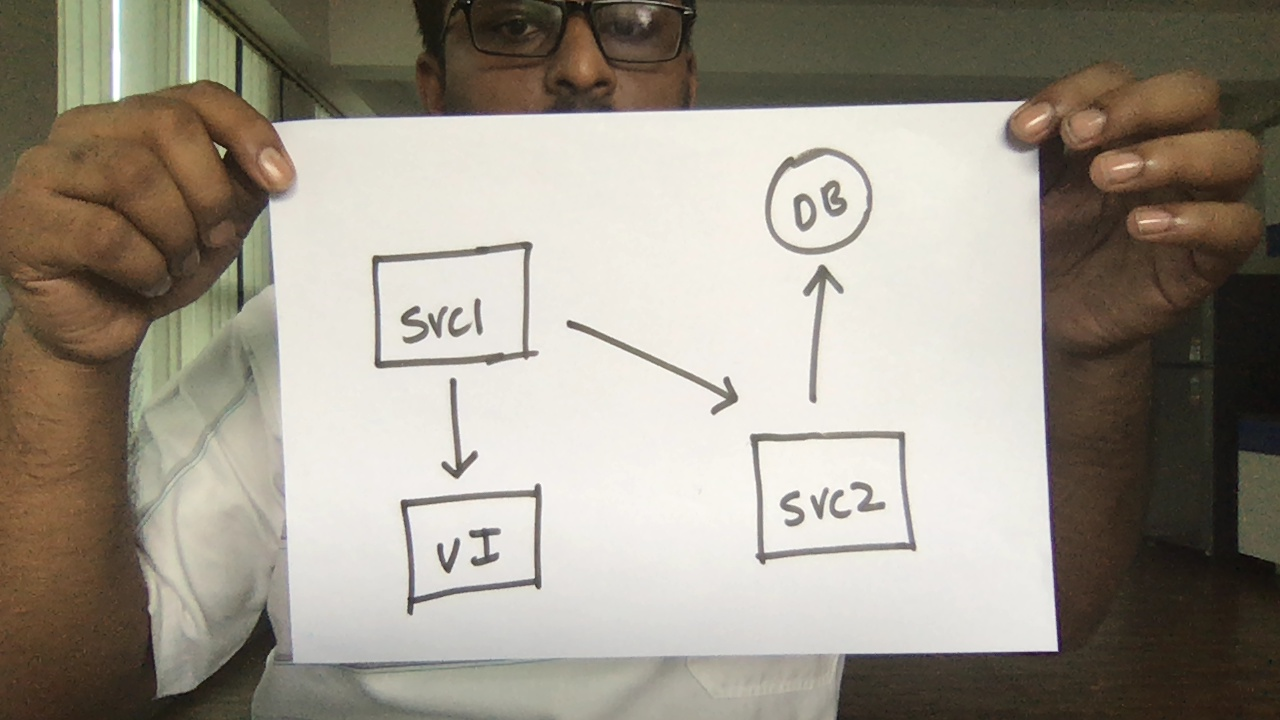arrow: (558, 309, 750, 419), (784, 258, 855, 410), (429, 372, 491, 489)
db: (758, 141, 878, 257)
ec2: (367, 239, 547, 379), (743, 424, 923, 564)
ui: (386, 484, 564, 607)
